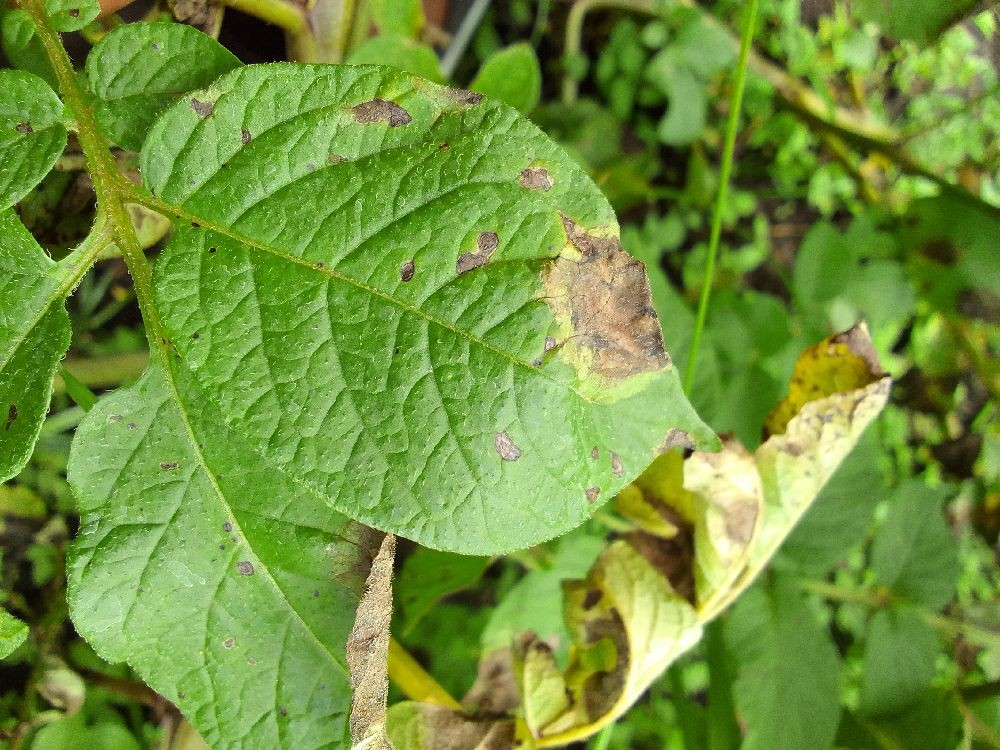late_blight: (346, 466, 721, 749), (685, 253, 1000, 518), (0, 455, 216, 750), (521, 198, 688, 398)
